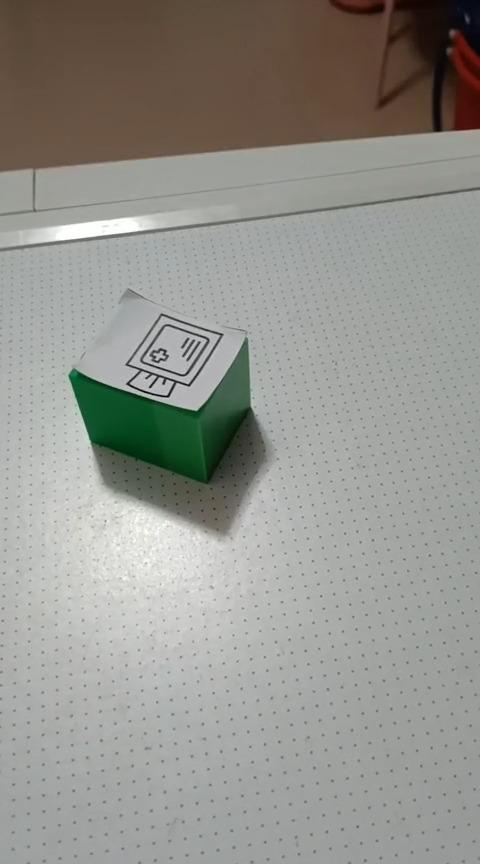Gauze: (67, 286, 252, 484)
